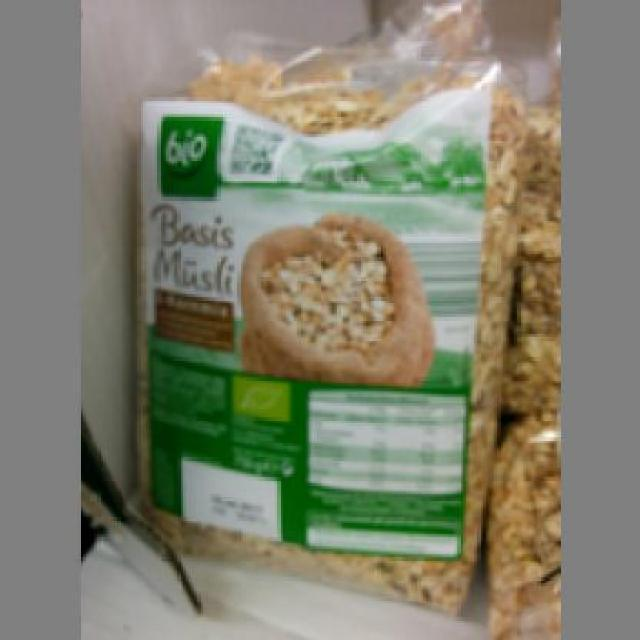Cereal: (131, 73, 524, 610)
